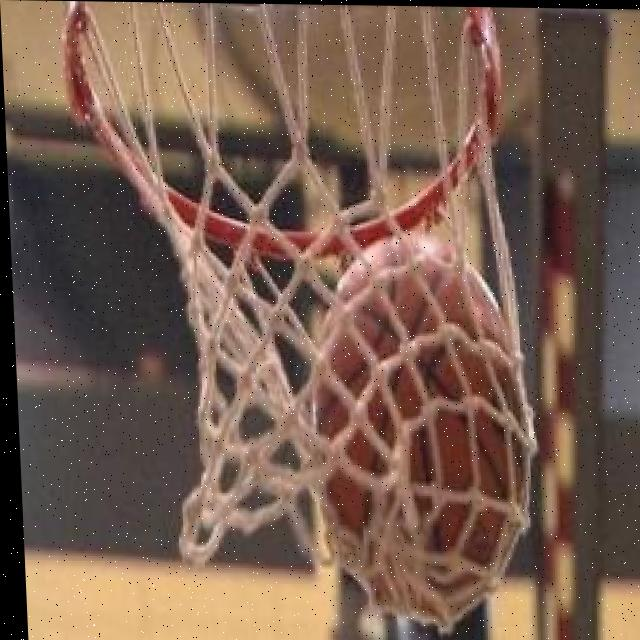basketball: (291, 220, 544, 626)
hoop: (55, 1, 560, 640), (55, 1, 558, 636)
